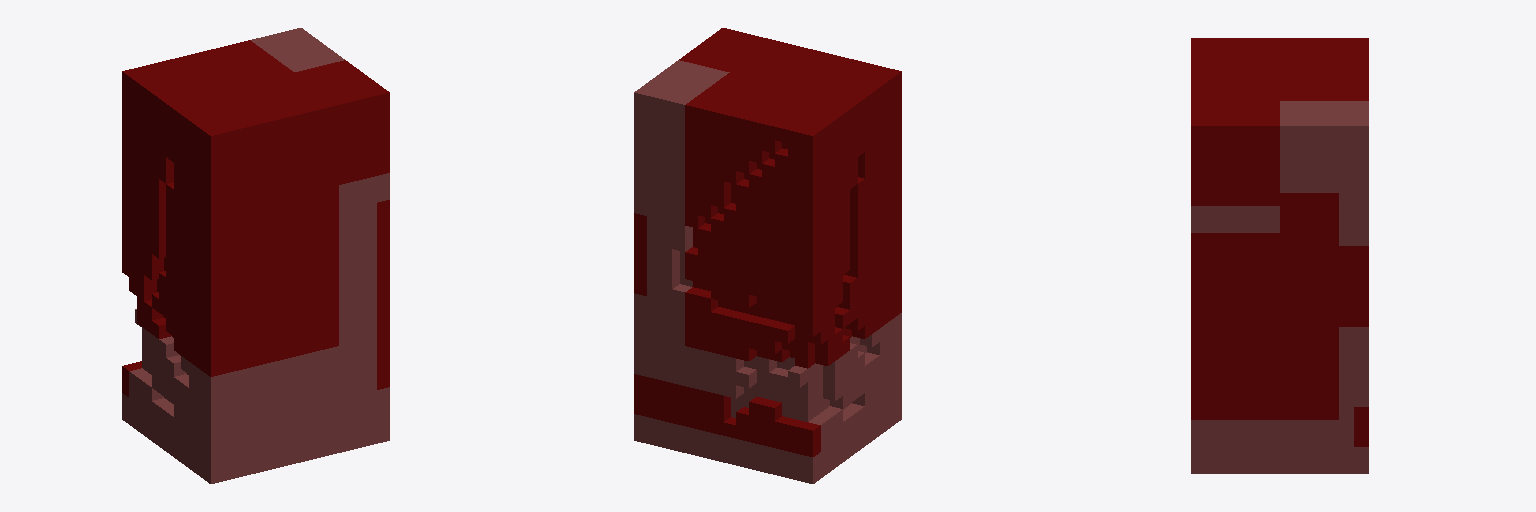
3 views of the same model, side by side, from view 1: azimuth 30°, elevation 25°; view 2: azimuth 150°, elevation 25°; view 3: azimuth 270°, elevation 25° (orthographic).
Visible parts, largest first — view 1: object 1; view 2: object 1; view 3: object 1.
Part boxes in pixels (left/top/right/bottom): object 1: left=122, top=28, right=389, bottom=483; object 1: left=634, top=28, right=901, bottom=483; object 1: left=1191, top=38, right=1368, bottom=473.
Size of the model in its own units: 1.4 by 2.6 by 1.2.
Materials: 1 (1 with a texture image).